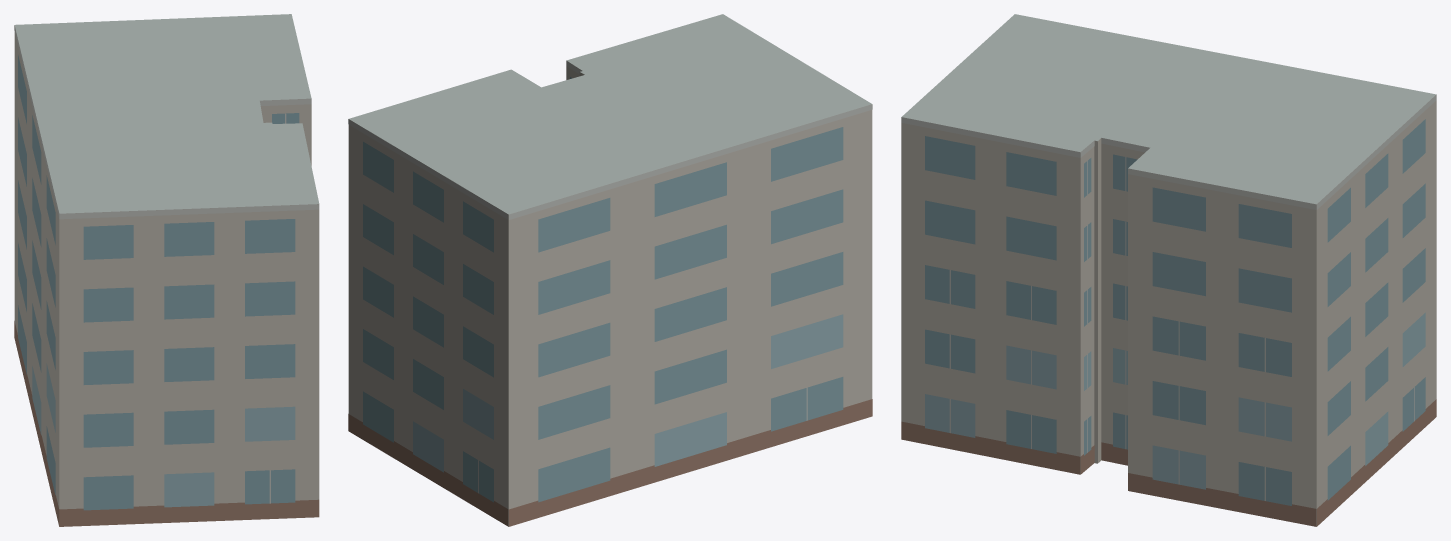
Rendered from survey-upis-33040191.glb.
The picture shows the model from 3 angles, left to right: view 1: azimuth 30°, elevation 25°; view 2: azimuth 150°, elevation 25°; view 3: azimuth 270°, elevation 25°; orthographic projection. The views are drawn at different scales.
Parts seen in each view (by area): view 1: survey-upis-33040191.tmp; view 2: survey-upis-33040191.tmp; view 3: survey-upis-33040191.tmp.
Part boxes in pixels (x1,y1,x2,y2): survey-upis-33040191.tmp: (14, 14, 319, 526); survey-upis-33040191.tmp: (348, 14, 872, 526); survey-upis-33040191.tmp: (901, 14, 1436, 526).
Bounding box in the file's own units: 17.29 × 13.65 × 20.54.
